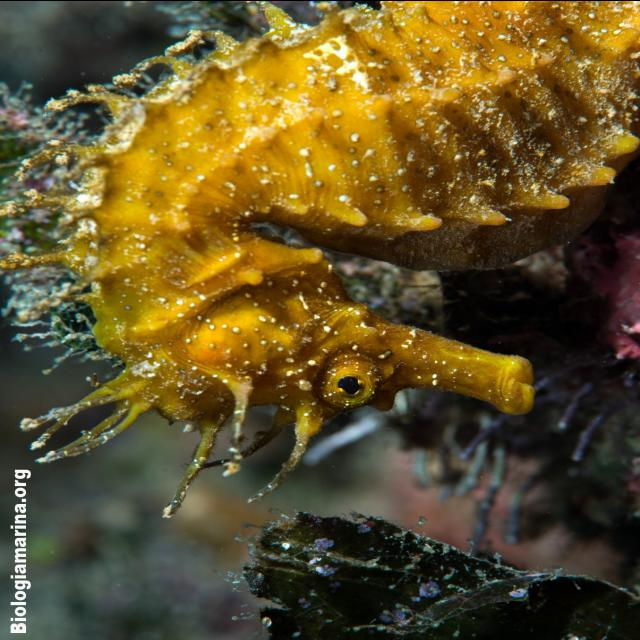Guttu: (80, 244, 548, 480)
